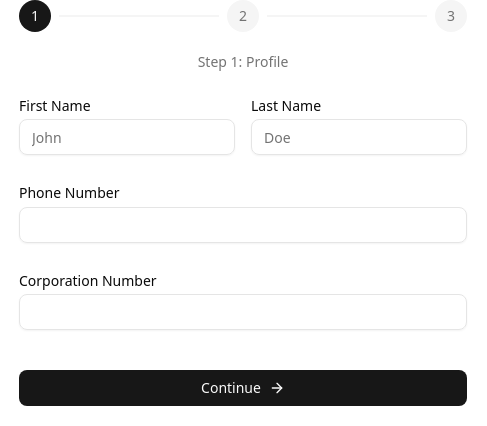
Test case: OnboardingPage › Step 1: Profile Form › validates corporation number against API and shows error for invalid
The width and height of the screenshot is (487, 426).
In the field labelled "Corporation Number": (243, 312) [19,294,467,330], type "123456789"
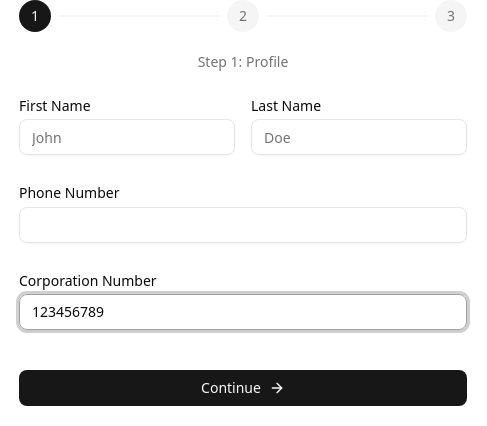
Press Tab
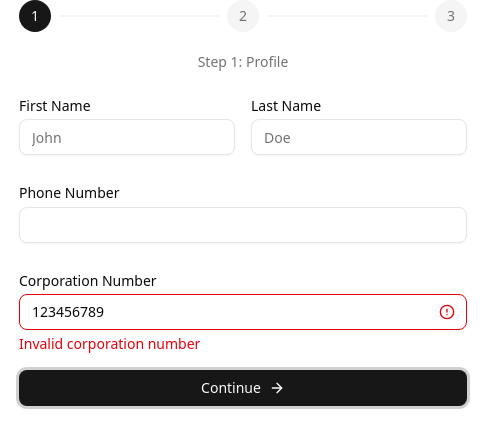
Now the text "Invalid corporation number" is shown, box [19,334,200,353]
